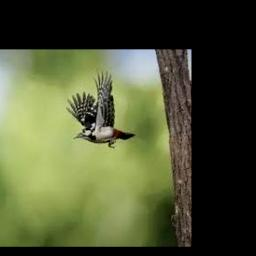Woodpecker: (65, 68, 135, 148)
